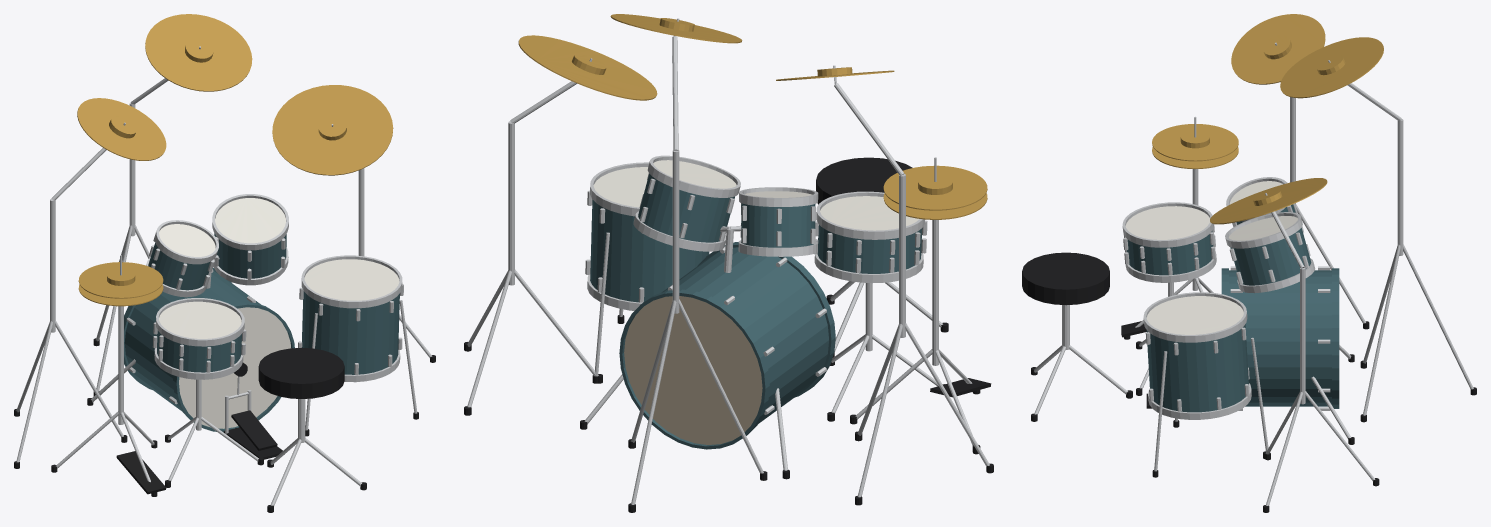
Rendered from perkusja.glb.
3 renders of one model, left to right at view 1: azimuth 30°, elevation 25°; view 2: azimuth 150°, elevation 25°; view 3: azimuth 270°, elevation 25°, orthographic. The views are drawn at different scales.
Visible parts, largest first — view 1: Floor tom 16x14", Stopa 22x18", Ride 20", Werbel 14x6,5", Crash 18", Tom 12x8", Stołek perkusisty, Tom 10x7", Crash 16", Hi-hat 14" – górny, Stopa (pedał), Statyw crash 16" (+7 smaller); view 2: Stopa 22x18", Floor tom 16x14", Werbel 14x6,5", Tom 12x8", Tom 10x7", Ride 20", Statyw crash 18", Hi-hat 14" – górny, Stołek perkusisty, Statyw crash 16", Statyw ride 20", Statyw hi-hat (+8 smaller); view 3: Floor tom 16x14", Stopa 22x18", Werbel 14x6,5", Stołek perkusisty, Tom 12x8", Crash 16", Crash 18", Statyw crash 18", Hi-hat 14" – górny, Ride 20", Statyw ride 20", Nogi floor toma (+5 smaller).
Part boxes in pixels (x1,y1,x2,y2): Floor tom 16x14": (298, 255, 403, 382); Stopa 22x18": (124, 268, 294, 432); Ride 20": (272, 85, 393, 175); Werbel 14x6,5": (152, 298, 246, 379); Crash 18": (145, 14, 252, 91); Tom 12x8": (212, 194, 288, 285); Stołek perkusisty: (258, 347, 366, 512); Tom 10x7": (146, 220, 218, 297); Crash 16": (77, 98, 166, 160); Hi-hat 14" – górny: (78, 262, 163, 298); Stopa (pedał): (87, 256, 282, 459); Statyw crash 16": (14, 199, 127, 468); Stopa 22x18": (619, 242, 835, 449); Floor tom 16x14": (585, 162, 709, 310); Werbel 14x6,5": (814, 191, 927, 283); Tom 12x8": (633, 155, 740, 251); Tom 10x7": (738, 187, 818, 256); Ride 20": (518, 35, 657, 100); Statyw crash 18": (628, 150, 767, 512); Hi-hat 14" – górny: (883, 165, 987, 210); Stołek perkusisty: (816, 157, 948, 356); Statyw crash 16": (855, 174, 993, 505); Statyw ride 20": (464, 121, 602, 415); Statyw hi-hat: (850, 220, 980, 454); Floor tom 16x14": (1143, 292, 1251, 419); Stopa 22x18": (1221, 266, 1339, 410); Werbel 14x6,5": (1122, 202, 1216, 282); Stołek perkusisty: (1022, 252, 1132, 421); Tom 12x8": (1225, 212, 1315, 293); Crash 16": (1231, 14, 1325, 84); Crash 18": (1280, 37, 1383, 98); Statyw crash 18": (1360, 119, 1476, 422); Hi-hat 14" – górny: (1152, 124, 1238, 161); Ride 20": (1210, 178, 1327, 224); Statyw ride 20": (1263, 267, 1379, 512); Nogi floor toma: (1152, 337, 1270, 477).
Size of the model in its own units: 2.06 by 1.64 by 1.86.
